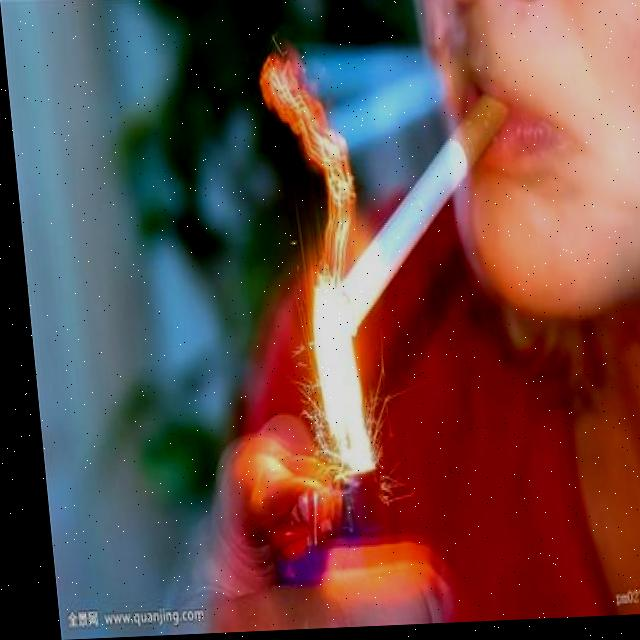cigarette: (306, 98, 523, 338)
